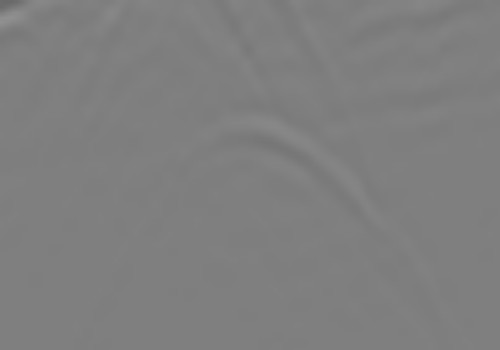hyperbola: (109, 115, 417, 289)
